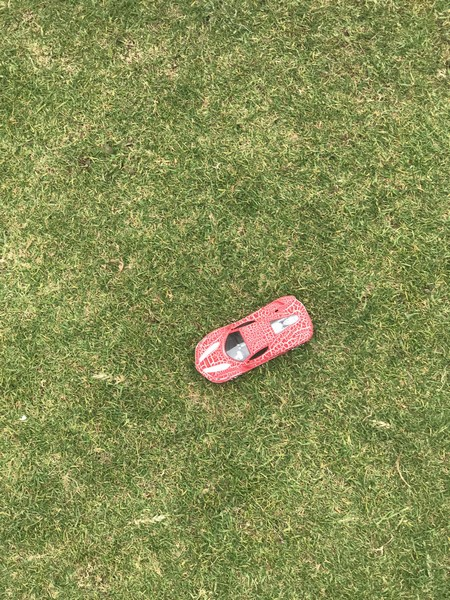RC: (192, 295, 317, 384)
